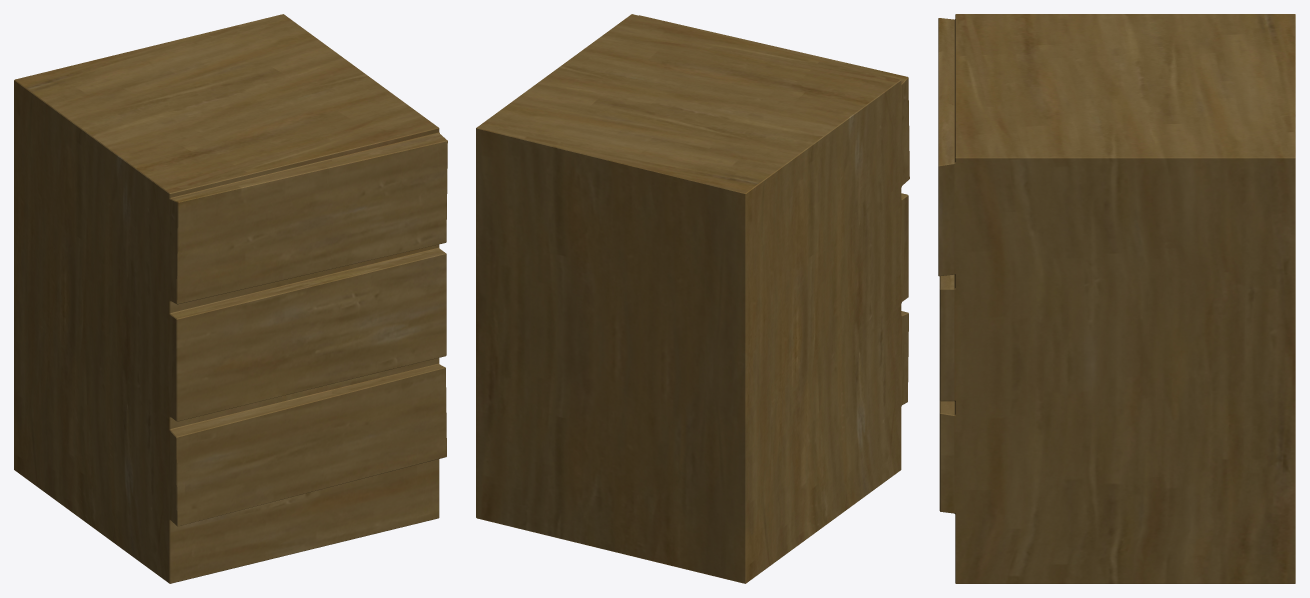
The model's file is Cabinet1.fbx.
3 views of the same model, side by side, from view 1: azimuth 30°, elevation 25°; view 2: azimuth 150°, elevation 25°; view 3: azimuth 270°, elevation 25° (orthographic). The views are drawn at different scales.
Parts seen in each view (by area): view 1: Cabinet1; view 2: Cabinet1; view 3: Cabinet1.
Part boxes in pixels (x1,y1,x2,y2): Cabinet1: [14, 14, 447, 583]; Cabinet1: [476, 14, 909, 583]; Cabinet1: [938, 14, 1295, 583].
Size of the model in its own units: 221 by 303 by 230.
